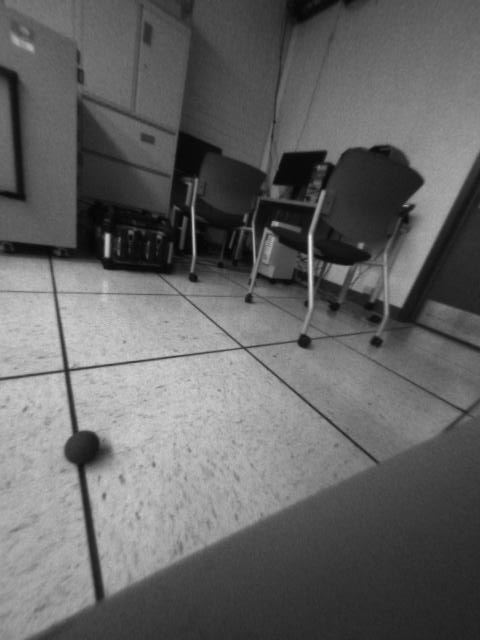dogtoy: (59, 419, 119, 474)
